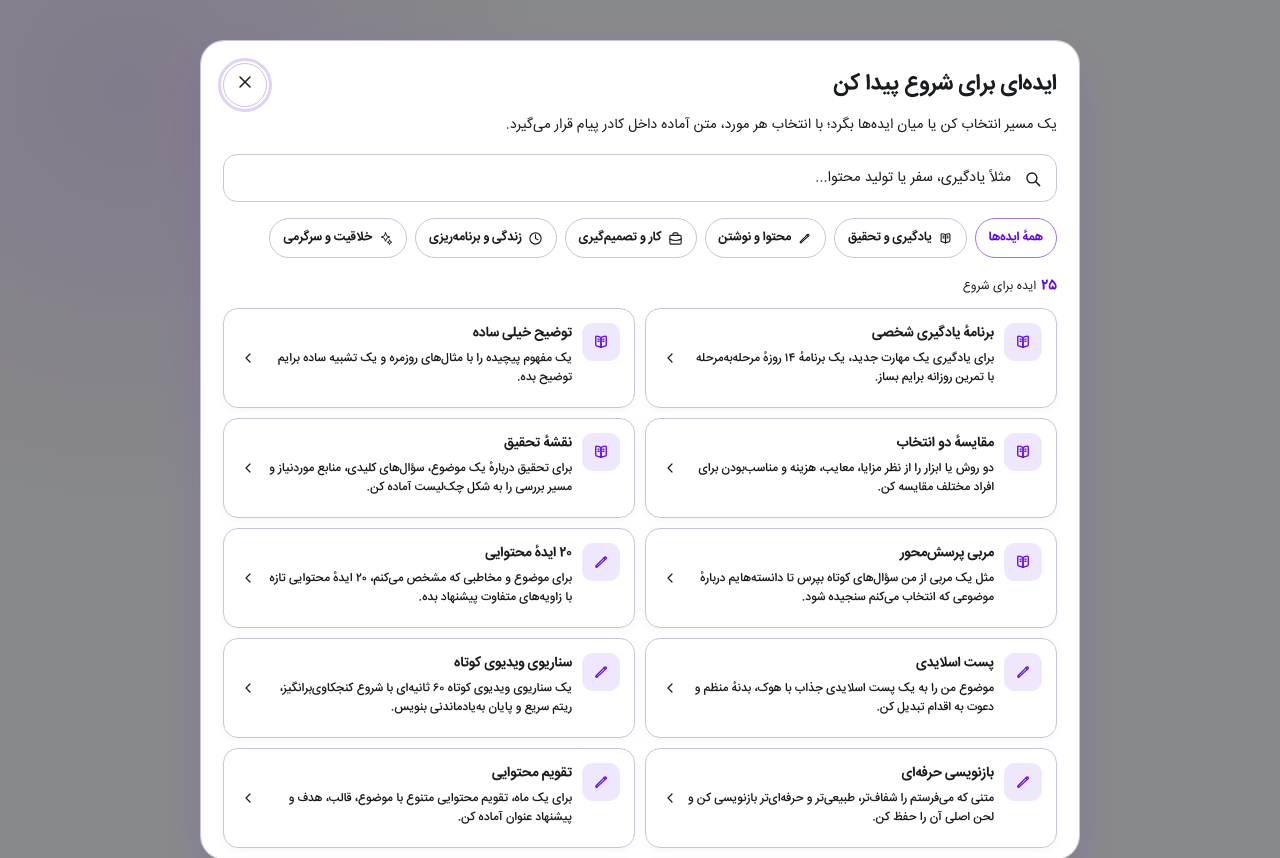
Test: StarterIdeasDialog › filters ideas by category and search query
Click the button "خلاقیت و سرگرمی".
click(338, 238)  # box [270,218,407,258]
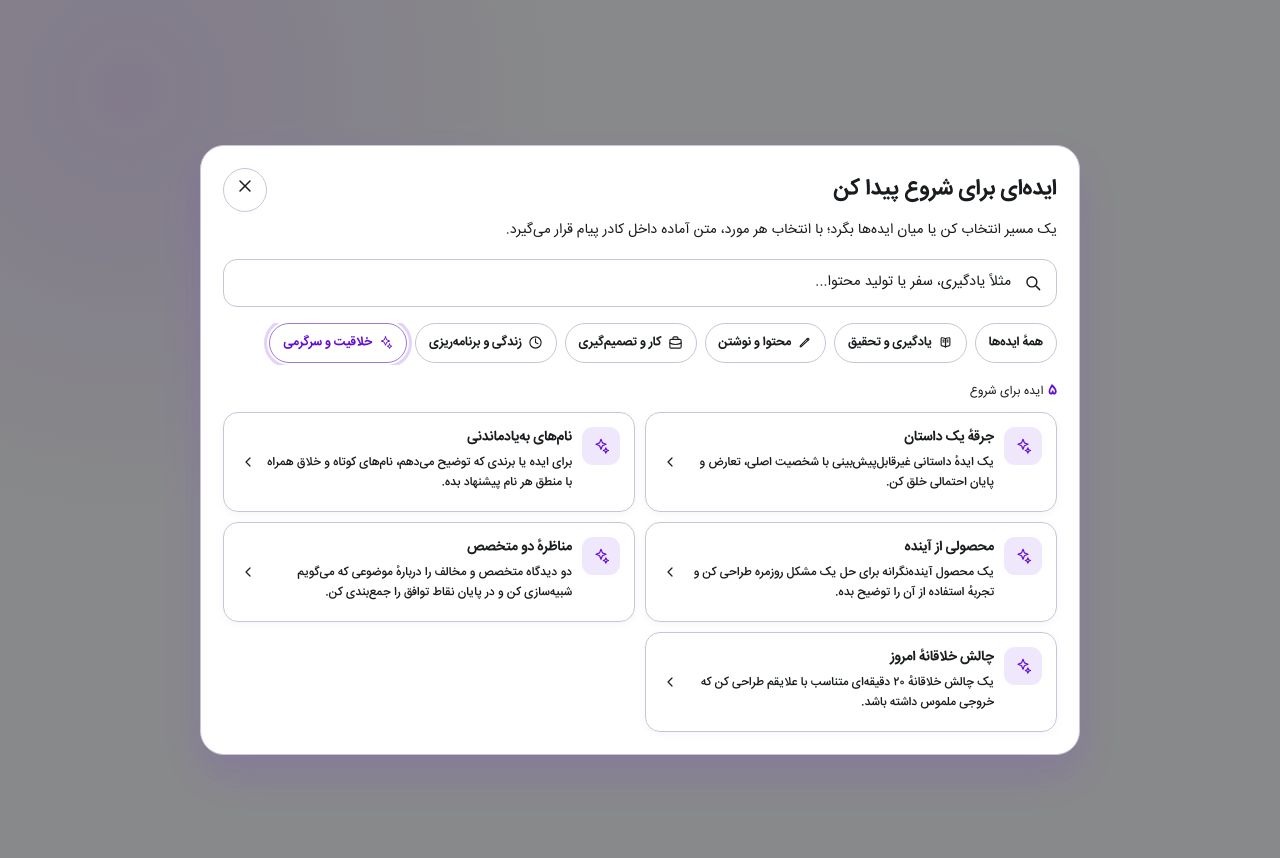
Expected: the button "جرقهٔ یک داستان" is shown, [645,412,1057,512]
Expected: the button "برنامهٔ یادگیری شخصی" is gone
Type "آینده" into the search field named "جست‌وجوی ایده‌ها".
click(626, 283); type("آینده")  # box [238,271,1013,295]
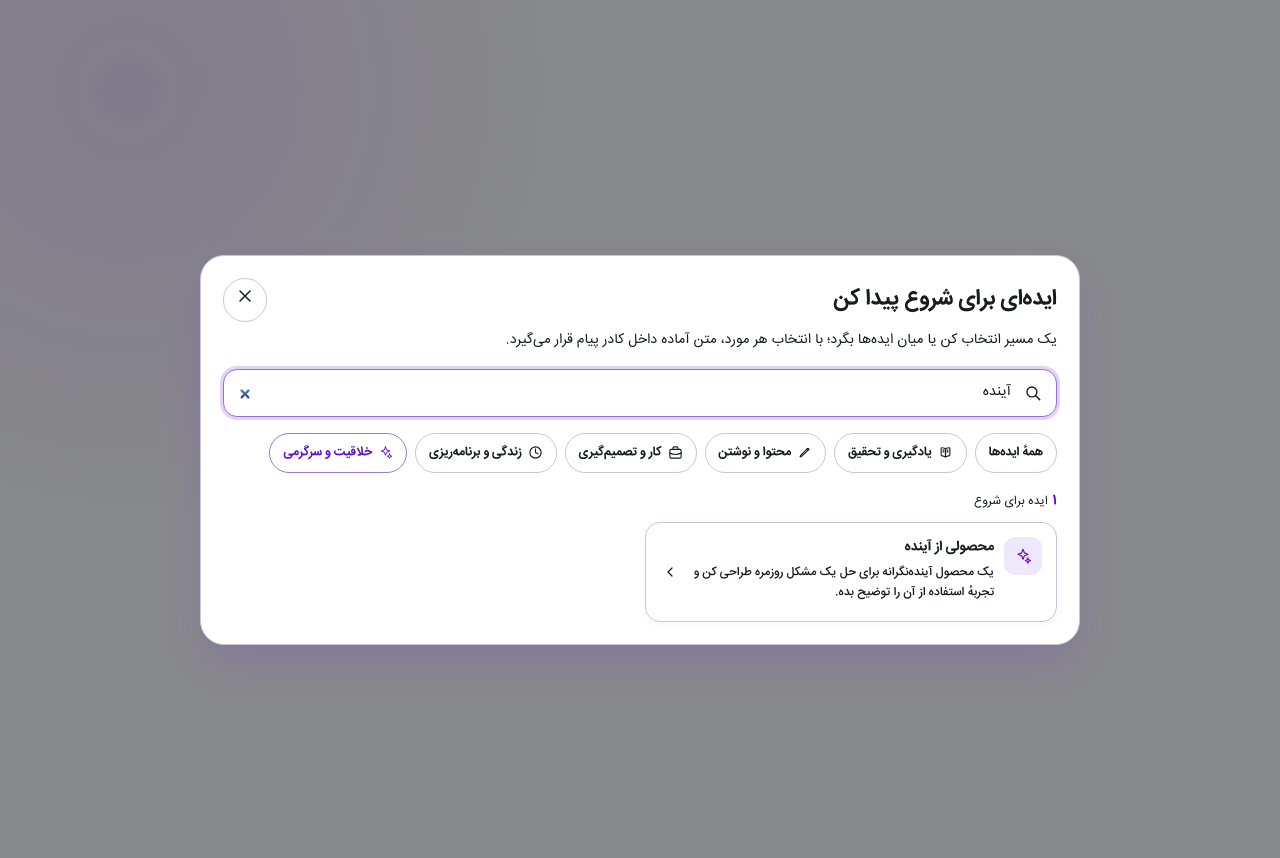
Expected: the button "محصولی از آینده" is shown, [645,522,1057,622]
Expected: the button "جرقهٔ یک داستان" is gone
